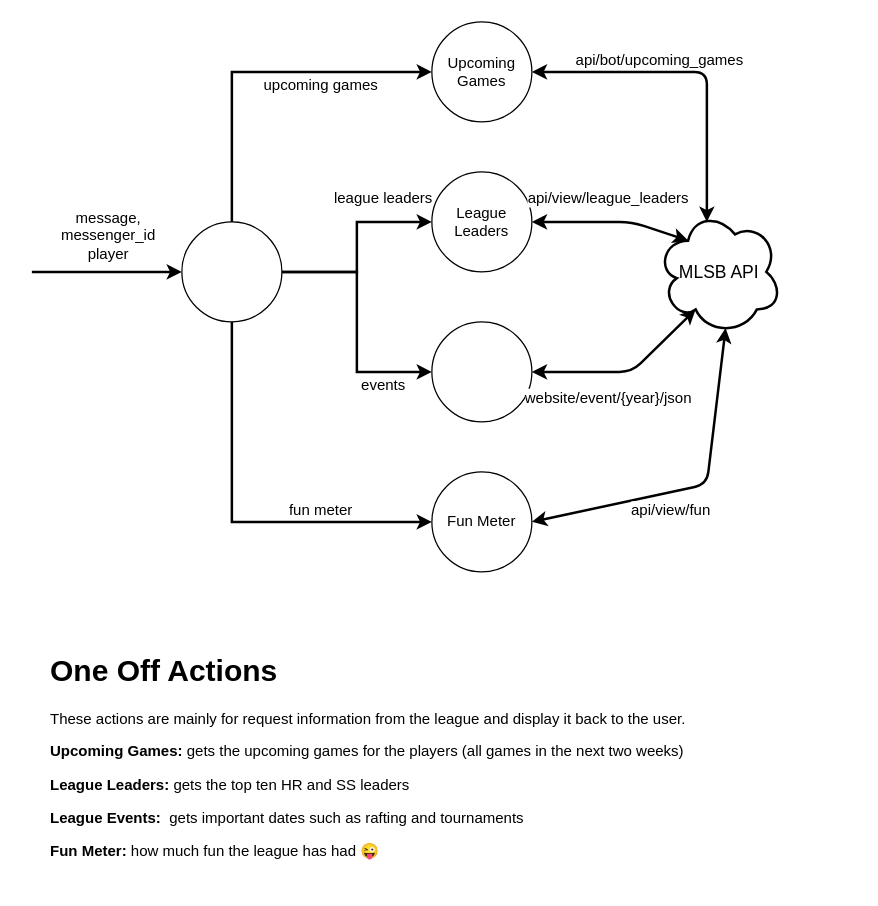
Some shapes in this 878 by 906 pixel diagram are drawn without their labels. The shapes that lost their labels are listed below. From the top down, each one's centre as x and y in pixels, then its label:
At point 231,271: "Map Message to API Request".
At point 481,371: "League Events".
